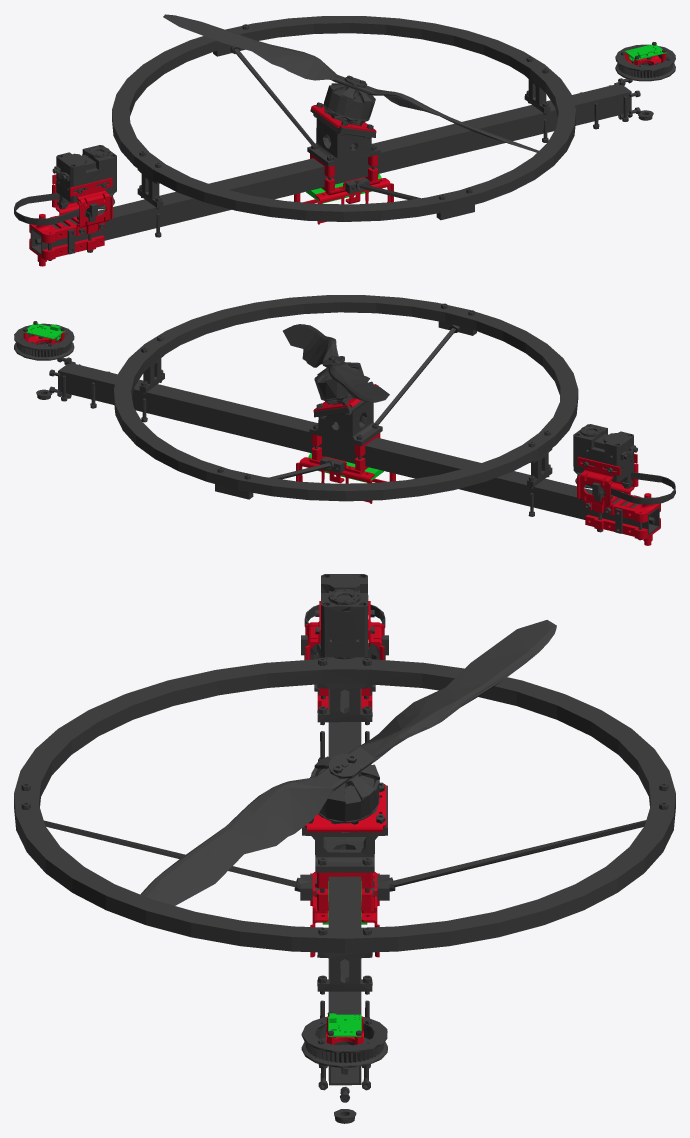
Rendered from tilt_link3.dae.
3 renders of one model, top to bottom at view 1: azimuth 30°, elevation 25°; view 2: azimuth 150°, elevation 25°; view 3: azimuth 270°, elevation 25°, orthographic. The views are drawn at different scales.
Parts seen in each view (by area): view 1: tilt_link3_balck_part, tilt_link3_red_part, link3_green_part; view 2: tilt_link3_balck_part, tilt_link3_red_part, link3_green_part; view 3: tilt_link3_balck_part, tilt_link3_red_part, link3_green_part.
Boxes of the visible parts, left/top/right/bottom form: tilt_link3_balck_part: left=14, top=14, right=675, bottom=260; tilt_link3_red_part: left=29, top=52, right=666, bottom=266; link3_green_part: left=306, top=44, right=666, bottom=203; tilt_link3_balck_part: left=14, top=295, right=675, bottom=540; tilt_link3_red_part: left=23, top=332, right=660, bottom=545; link3_green_part: left=23, top=323, right=383, bottom=482; tilt_link3_balck_part: left=14, top=574, right=675, bottom=1123; tilt_link3_red_part: left=304, top=601, right=386, bottom=1044; link3_green_part: left=322, top=881, right=367, bottom=1036.
Size of the model in its own units: 0.6504 by 0.3997 by 0.1563.
